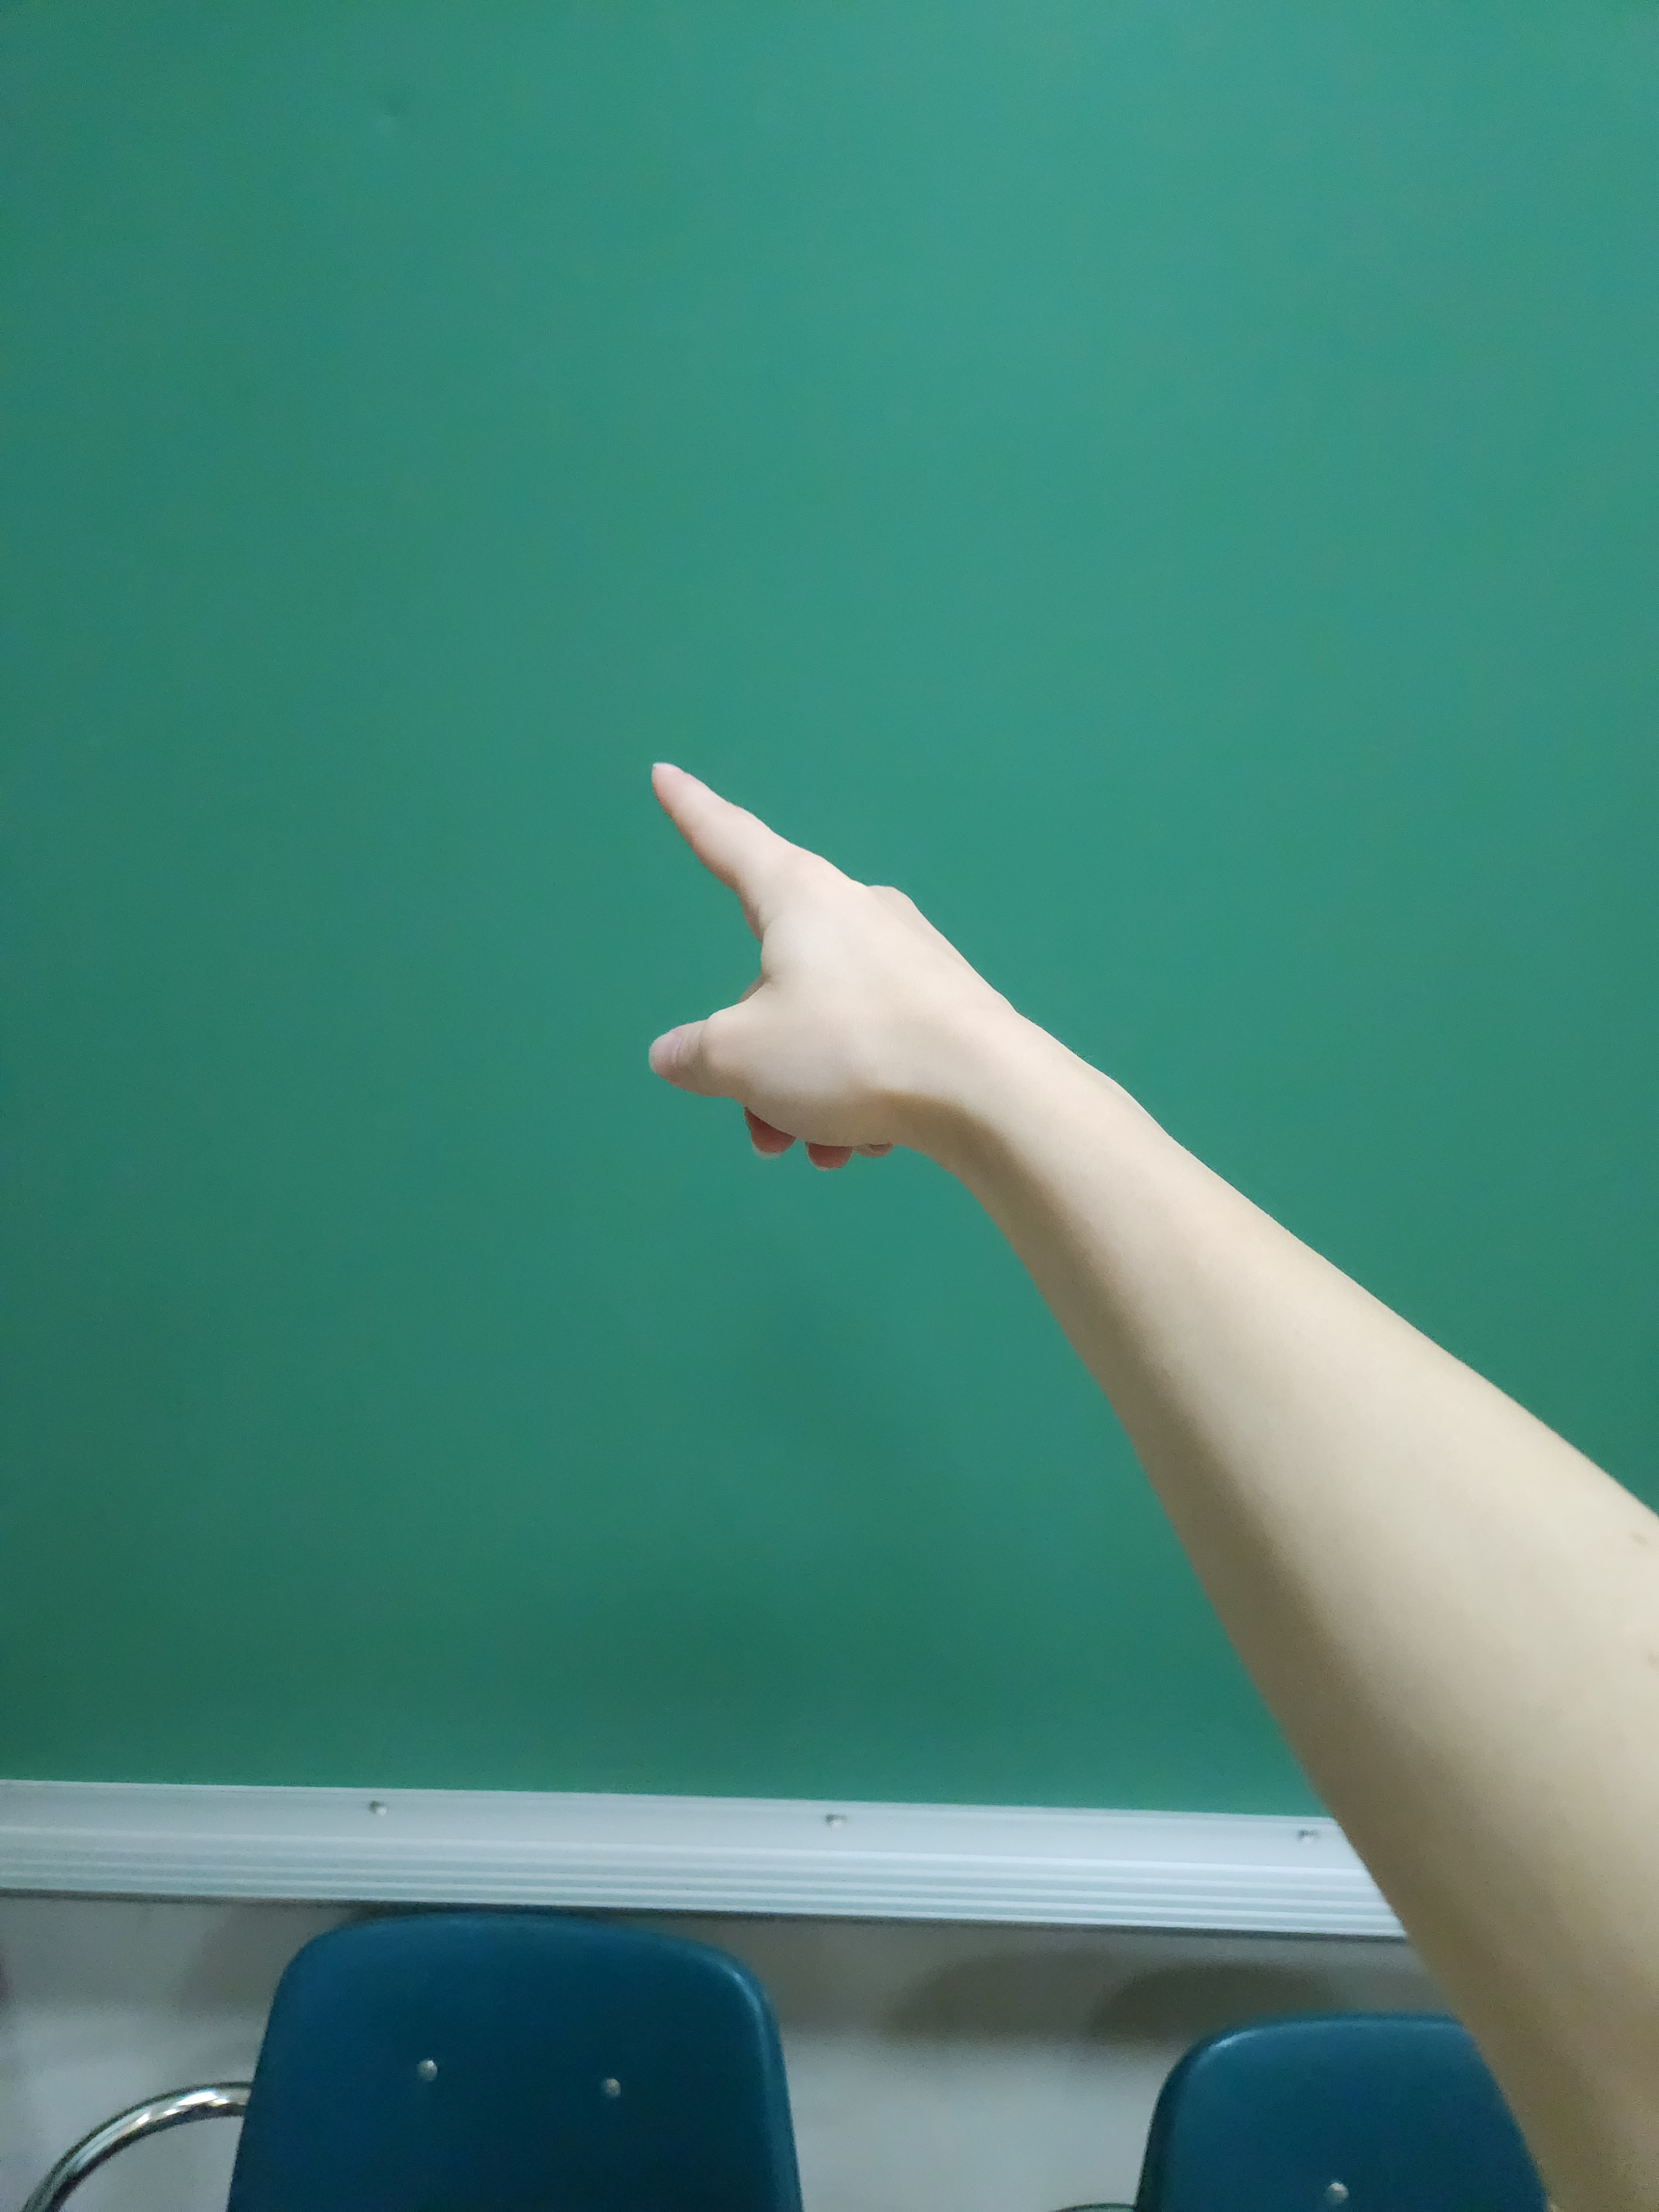pointing_gesture: (619, 747, 1039, 1176)
